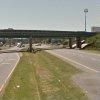Bridge: (7, 21, 85, 48)
